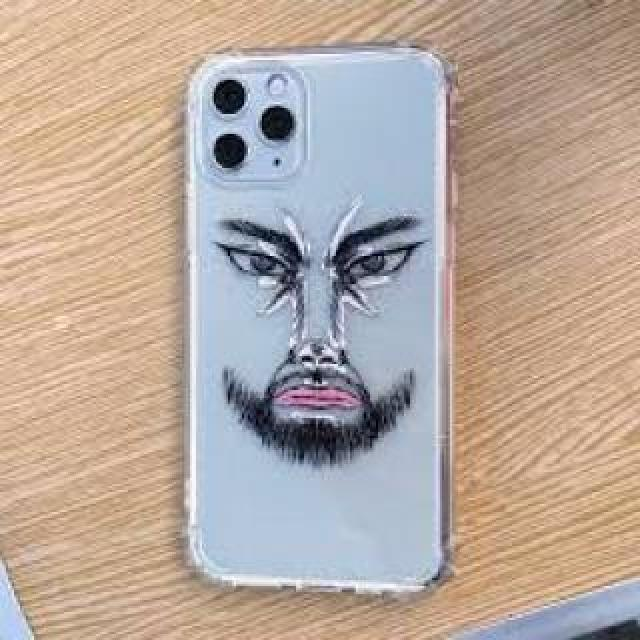smart phone: (177, 25, 460, 623)
